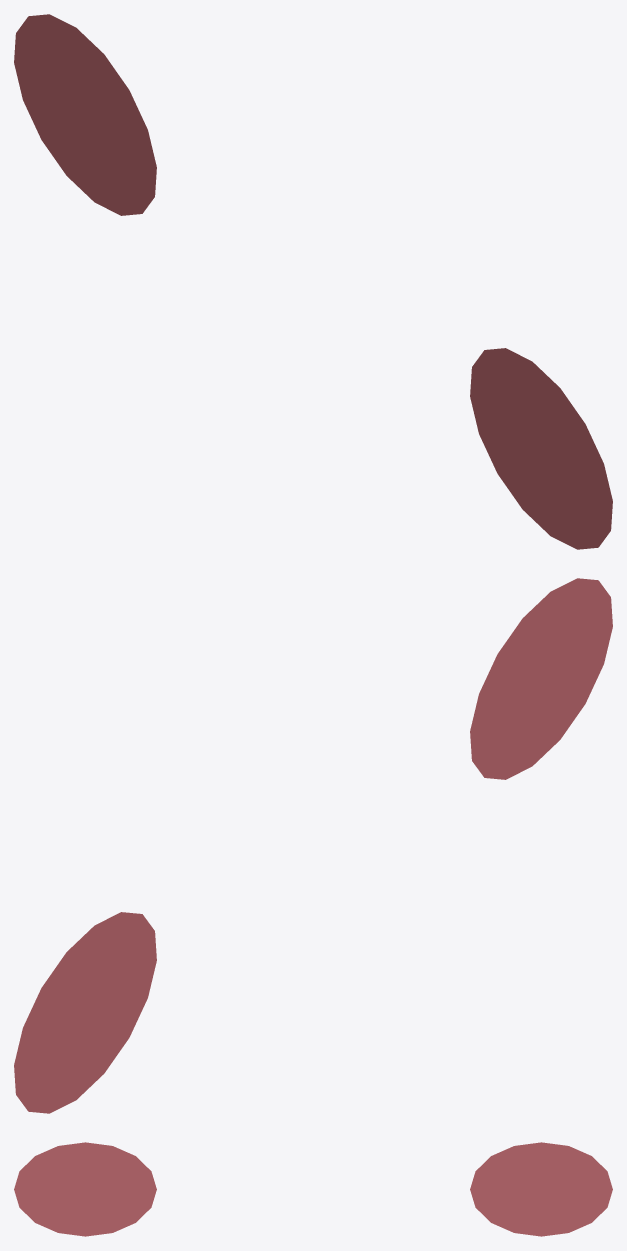
The model's file is LauraBlush.glb.
3 views of the same model, one above another, from view 1: azimuth 30°, elevation 25°; view 2: azimuth 150°, elevation 25°; view 3: azimuth 270°, elevation 25° (orthographic). The views are drawn at different scales.
Visible parts, largest first — view 1: LauraBlush; view 2: LauraBlush; view 3: LauraBlush.
Part boxes in pixels (left/top/right/bottom): LauraBlush: left=14, top=14, right=612, bottom=549; LauraBlush: left=14, top=578, right=612, bottom=1113; LauraBlush: left=14, top=1142, right=612, bottom=1236.
Size of the model in its own units: 0.0527 by 0.4905 by 2.97.
